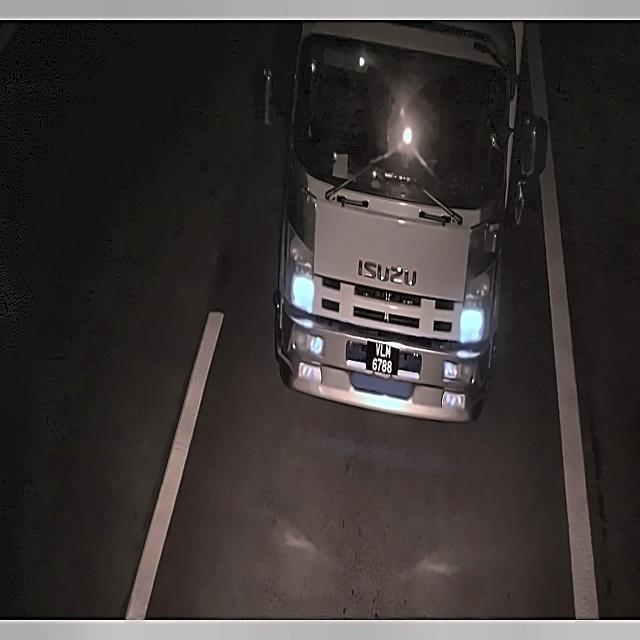car: (363, 334, 399, 379)
